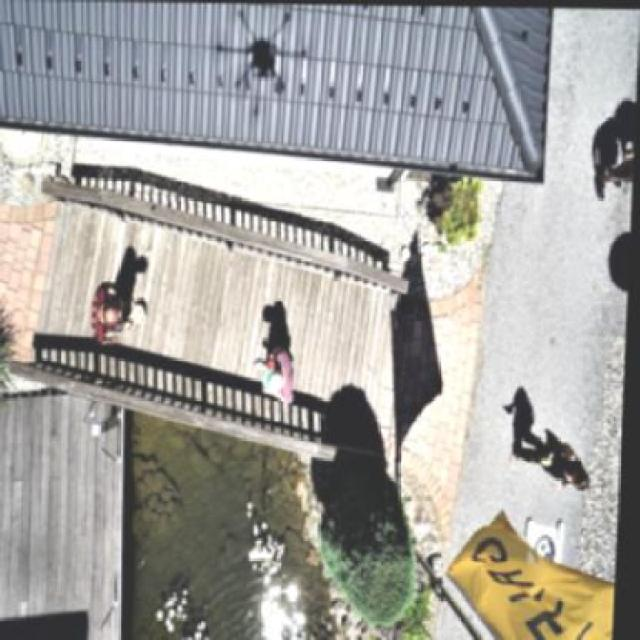Person: (503, 430, 600, 496), (86, 276, 140, 352), (252, 356, 294, 404)
